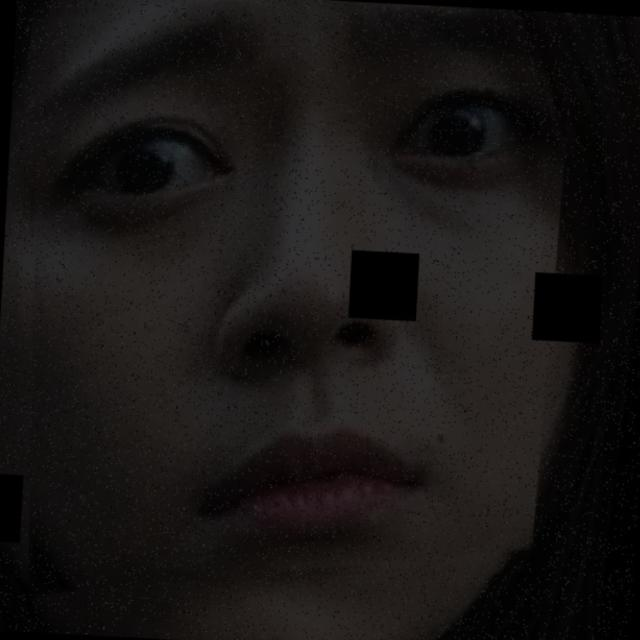Surprised: (39, 27, 573, 620)
